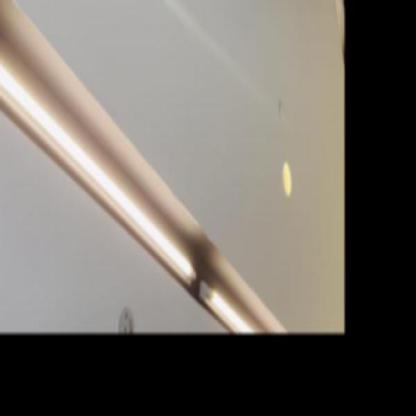light_on: (0, 30, 196, 290), (202, 283, 256, 334)
